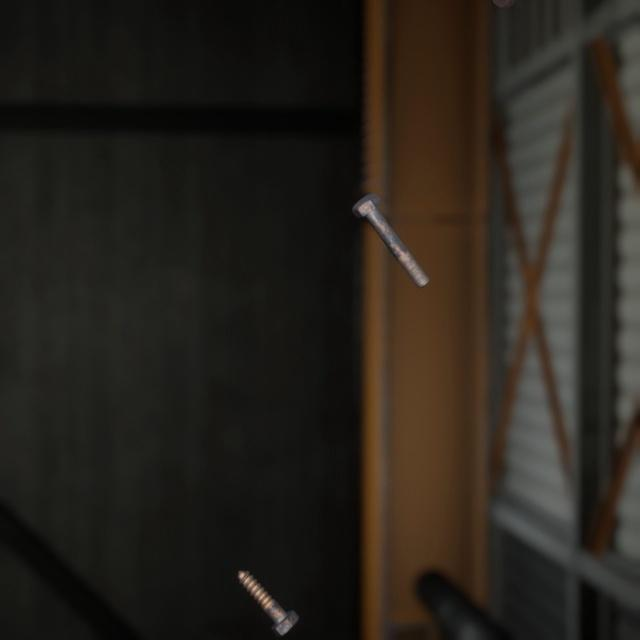bolt: (347, 173, 433, 277), (232, 542, 304, 617)
